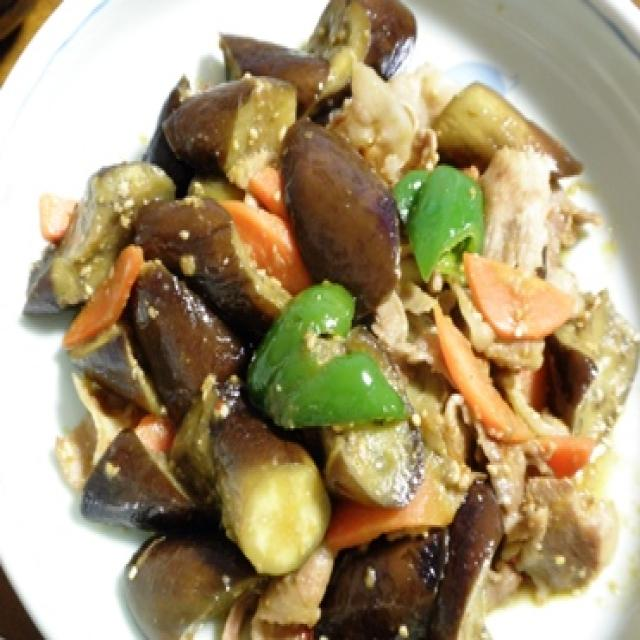鸡蛋料理: (0, 0, 631, 640)
